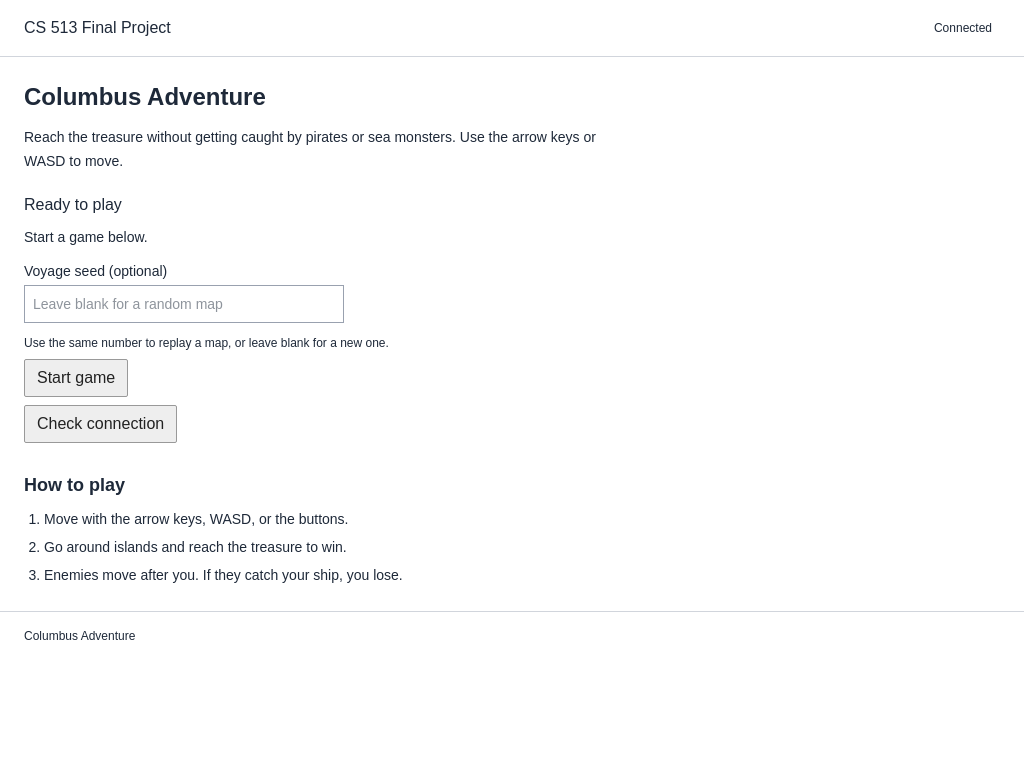
Scenario: rejects invalid seed input before creating a backend resource
Check: the text "Connected" is shown, box [934,21,992,35]
Type "1.5" into the field labelled "Voyage seed (optional)". click: (184, 304)
box: [24,285,344,323]
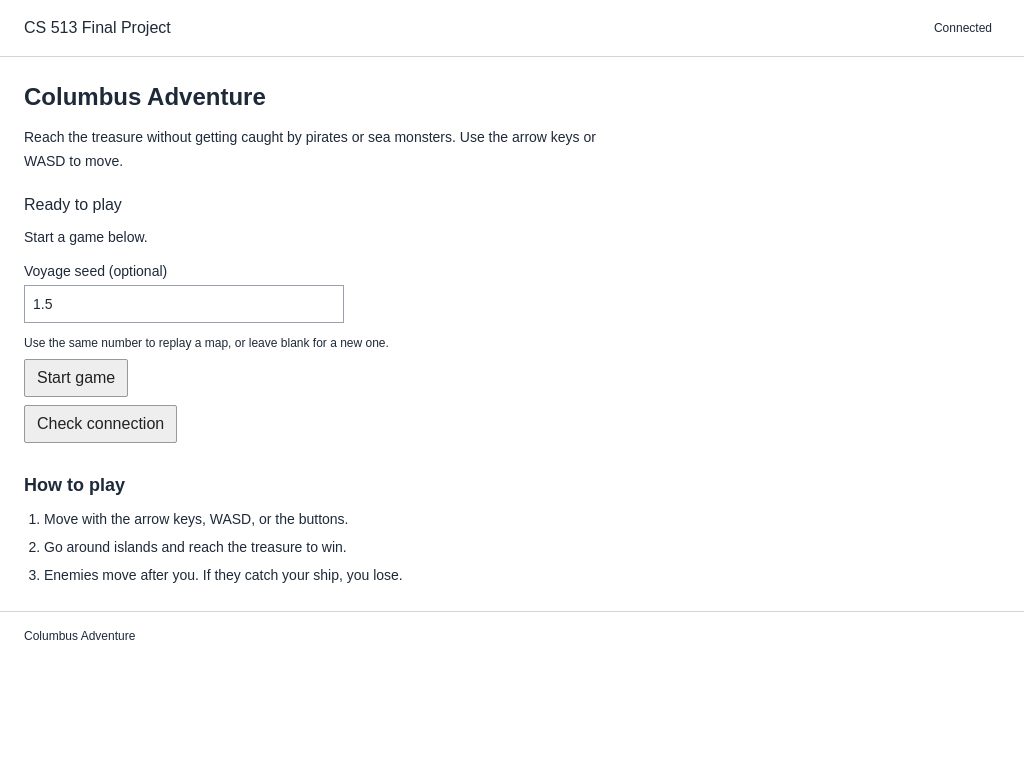
Click the button "Start game". click: (76, 378)
box: [24,359,128,397]
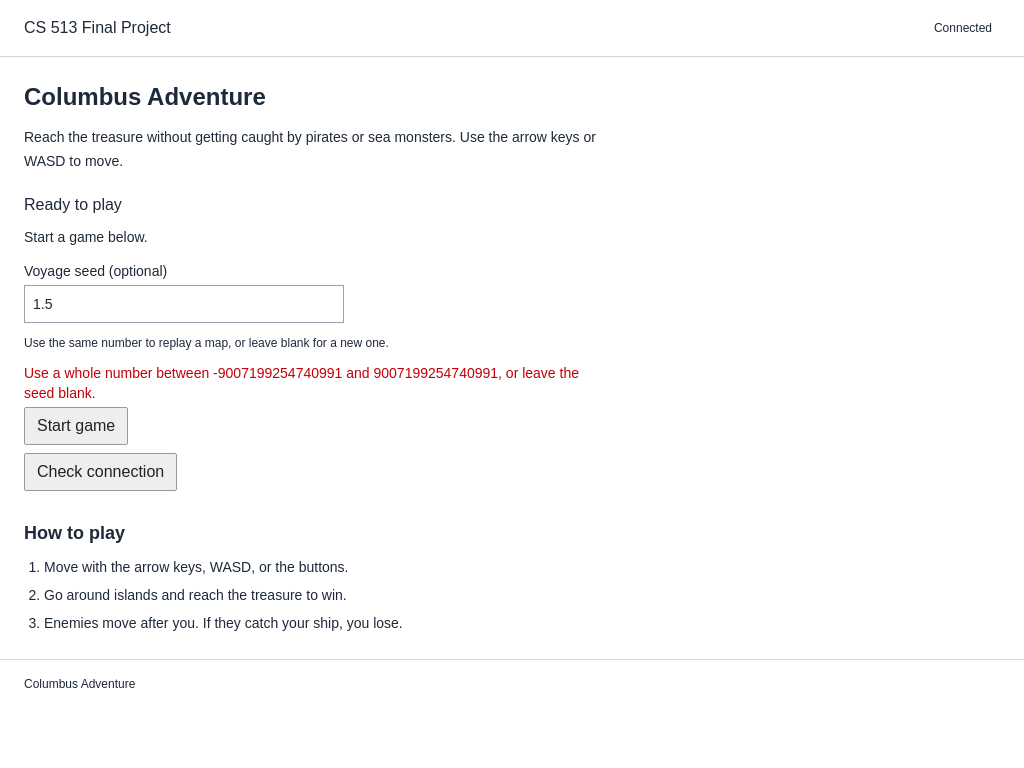
Check: the 2nd message shows "Use a whole number between", box [24,365,579,401]
